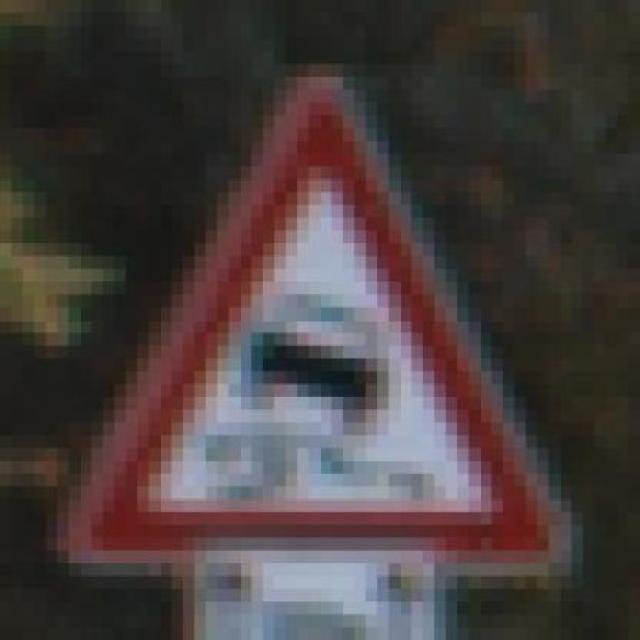Slippery Road Ahead: (57, 64, 594, 602)
